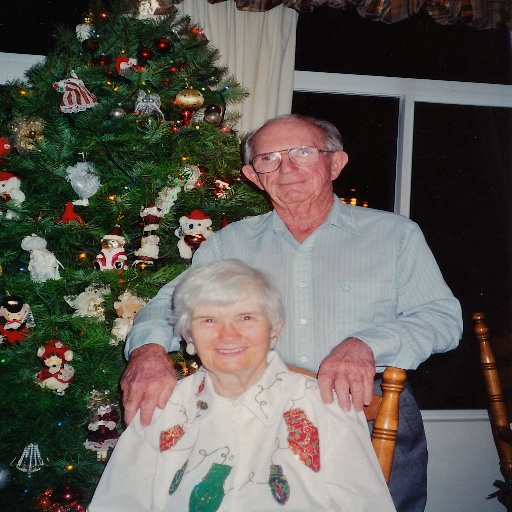hand: (303, 343, 386, 424), (119, 350, 178, 430)
